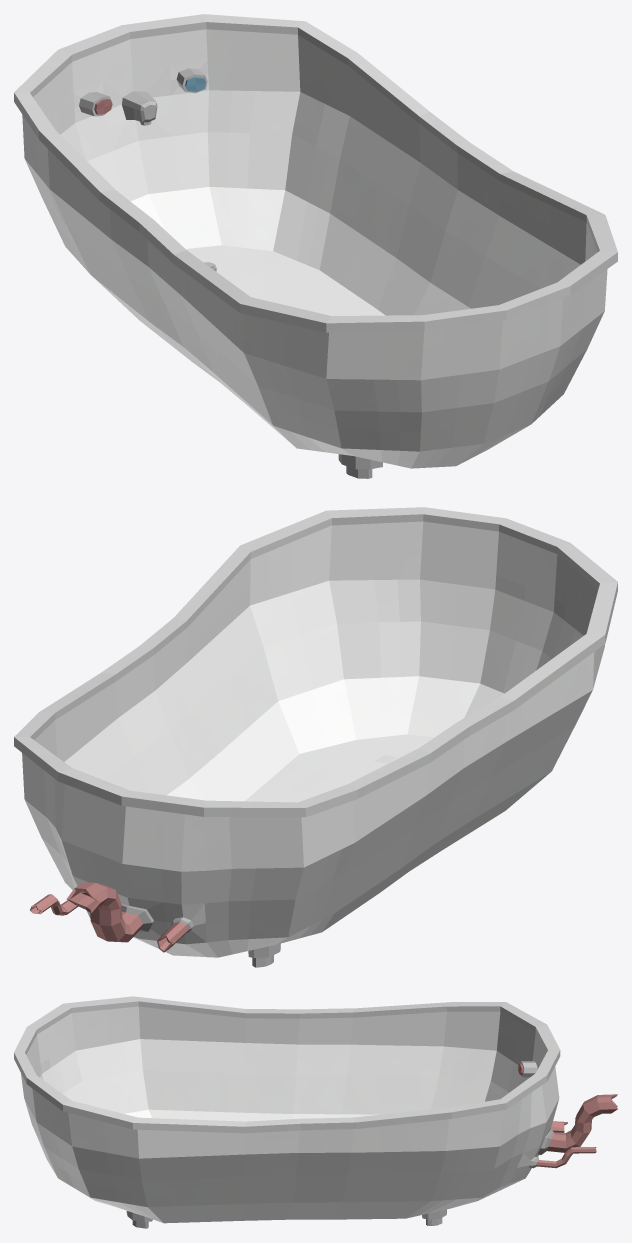
Rendered from bathtub.glb.
The picture shows the model from 3 angles, top to bottom: view 1: azimuth 30°, elevation 25°; view 2: azimuth 150°, elevation 25°; view 3: azimuth 270°, elevation 25°; orthographic projection. The views are drawn at different scales.
Parts seen in each view (by area): view 1: bathtub; view 2: bathtub; view 3: bathtub.
Part boxes in pixels (x1=…): bathtub: x1=14, y1=14, x2=617, y2=478; bathtub: x1=14, y1=507, x2=617, y2=967; bathtub: x1=14, y1=996, x2=617, y2=1228.
Size of the model in its own units: 1.15 by 0.6639 by 2.33.
Materials: 1 (1 with a texture image).
